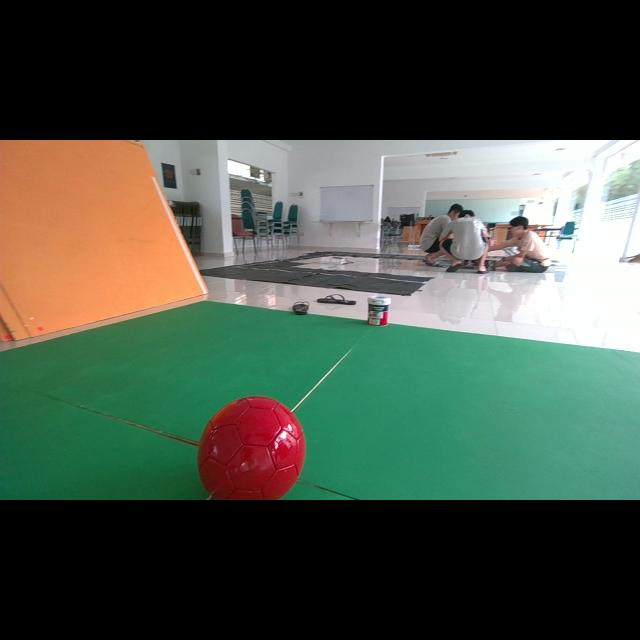R: (198, 396, 306, 499)
